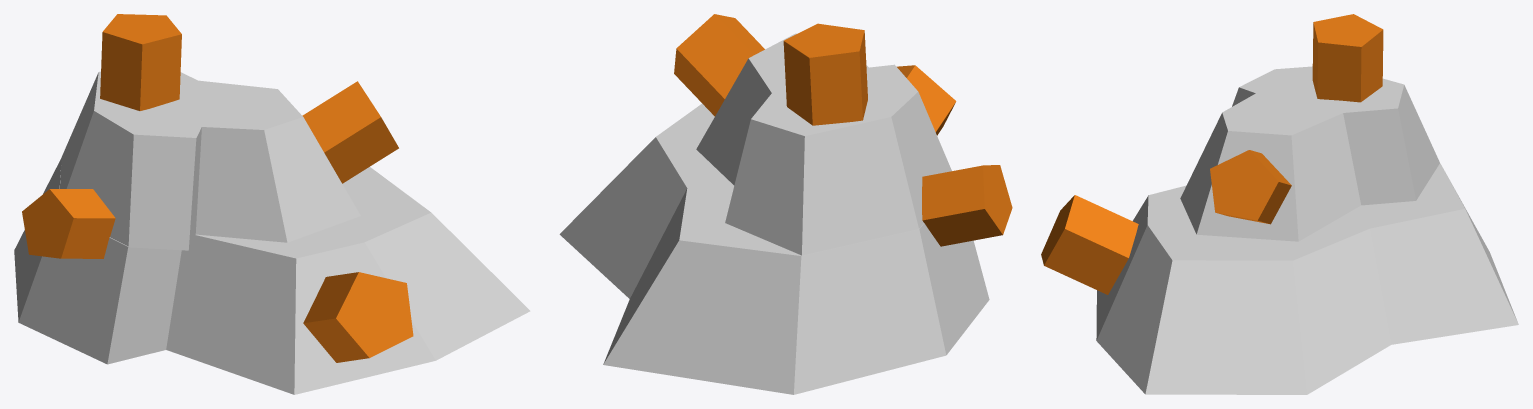
The model's file is Bronce_Tipo1.fbx.
3 renders of one model, left to right at view 1: azimuth 30°, elevation 25°; view 2: azimuth 150°, elevation 25°; view 3: azimuth 270°, elevation 25°, orthographic. The views are drawn at different scales.
Parts seen in each view (by area): view 1: base, Cylinder.003, Cylinder.001, Cylinder.002, cobre; view 2: base, Cylinder.001, Cylinder.002, cobre, Cylinder.003; view 3: base, Cylinder.003, Cylinder.001, cobre.
Boxes of the visible parts, x1=… form: base: x1=14, y1=71, x2=530, y2=394; Cylinder.003: x1=303, y1=272, x2=413, y2=362; Cylinder.001: x1=100, y1=14, x2=181, y2=110; Cylinder.002: x1=22, y1=189, x2=115, y2=258; cobre: x1=302, y1=81, x2=398, y2=183; base: x1=559, y1=33, x2=989, y2=394; Cylinder.001: x1=783, y1=23, x2=867, y2=125; Cylinder.002: x1=922, y1=165, x2=1012, y2=246; cobre: x1=674, y1=14, x2=764, y2=116; Cylinder.003: x1=897, y1=65, x2=956, y2=135; base: x1=1096, y1=66, x2=1518, y2=394; Cylinder.003: x1=1041, y1=195, x2=1138, y2=294; Cylinder.001: x1=1312, y1=14, x2=1383, y2=102; cobre: x1=1210, y1=150, x2=1291, y2=224.
Size of the model in its own units: 140 by 86.38 by 154.
